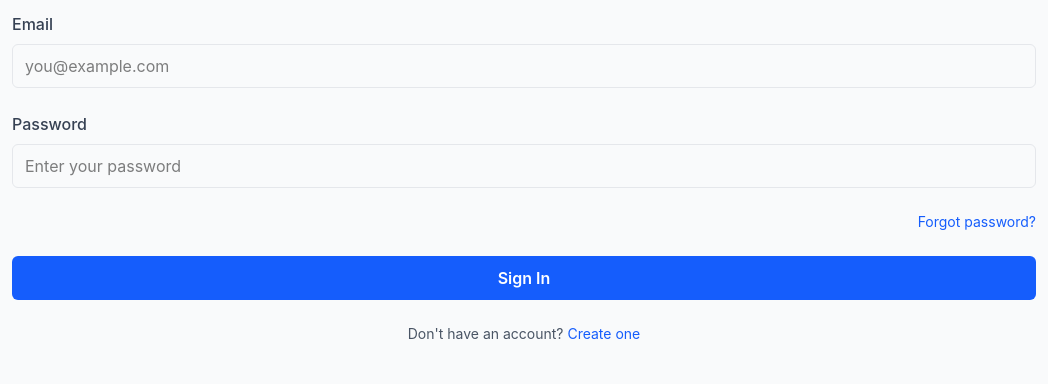
LoginForm › shows "Password is required" error for empty password
The width and height of the screenshot is (1048, 384).
Type "test@test.com" into the field labelled "Email". click: (524, 66)
box: [12,44,1036,88]
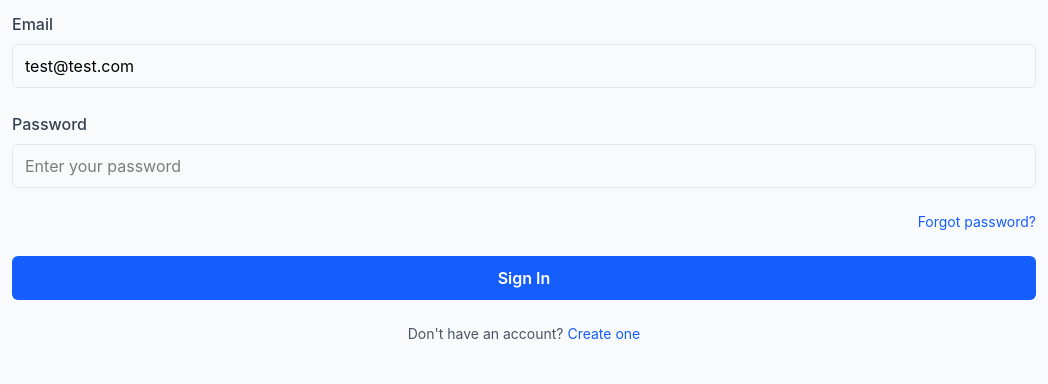
Click the button "Sign In". click: (524, 278)
box: [12,256,1036,300]
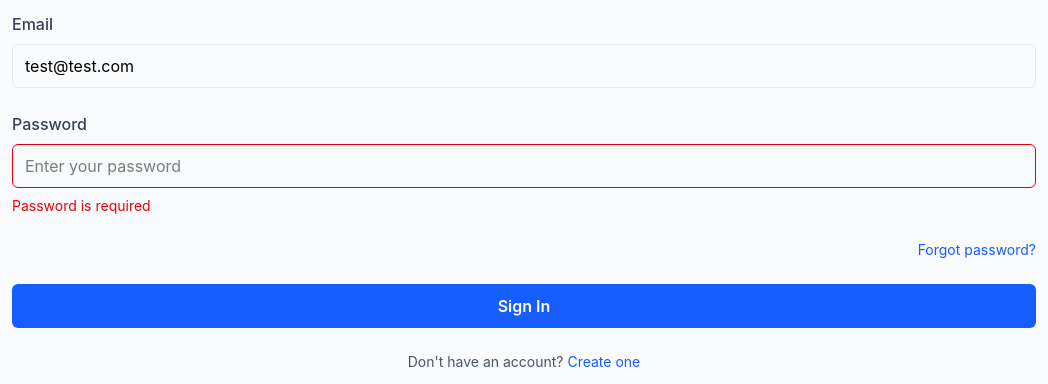
expect the text "Password is required" is shown: met, box [12,197,151,214]
